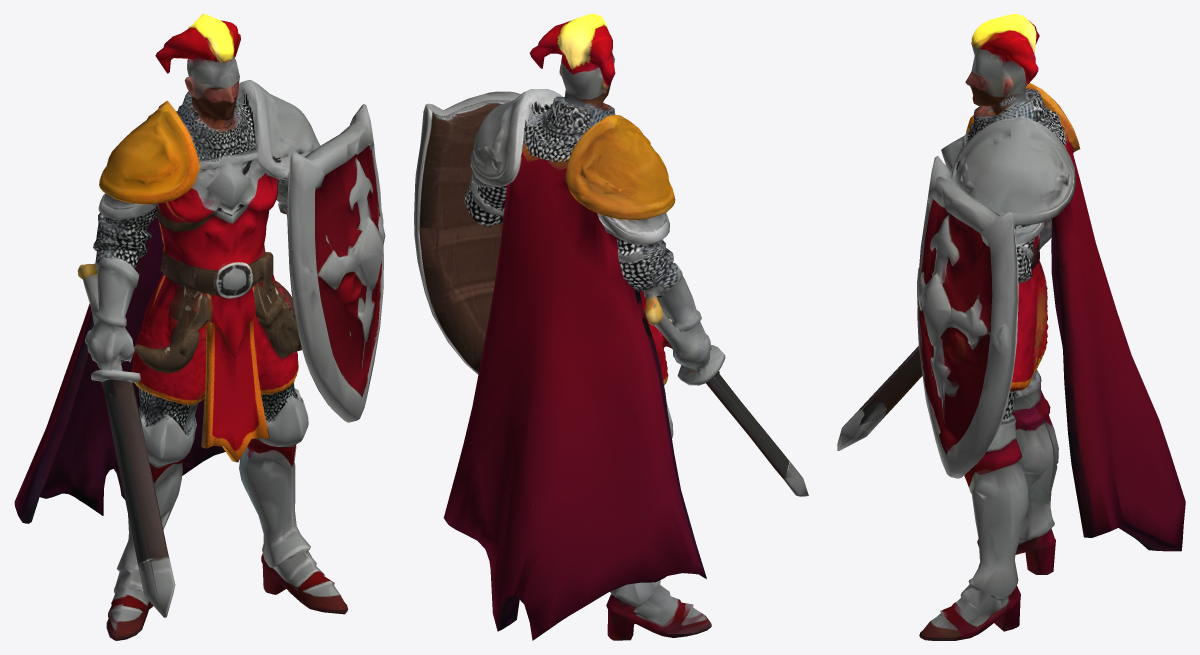
Rendered from baldric.glb.
3 renders of one model, left to right at view 1: azimuth 30°, elevation 25°; view 2: azimuth 150°, elevation 25°; view 3: azimuth 270°, elevation 25°, orthographic. The views are drawn at different scales.
Size of the model in its own units: 1.11 by 1.91 by 1.04.
1 material, 1 textured.
